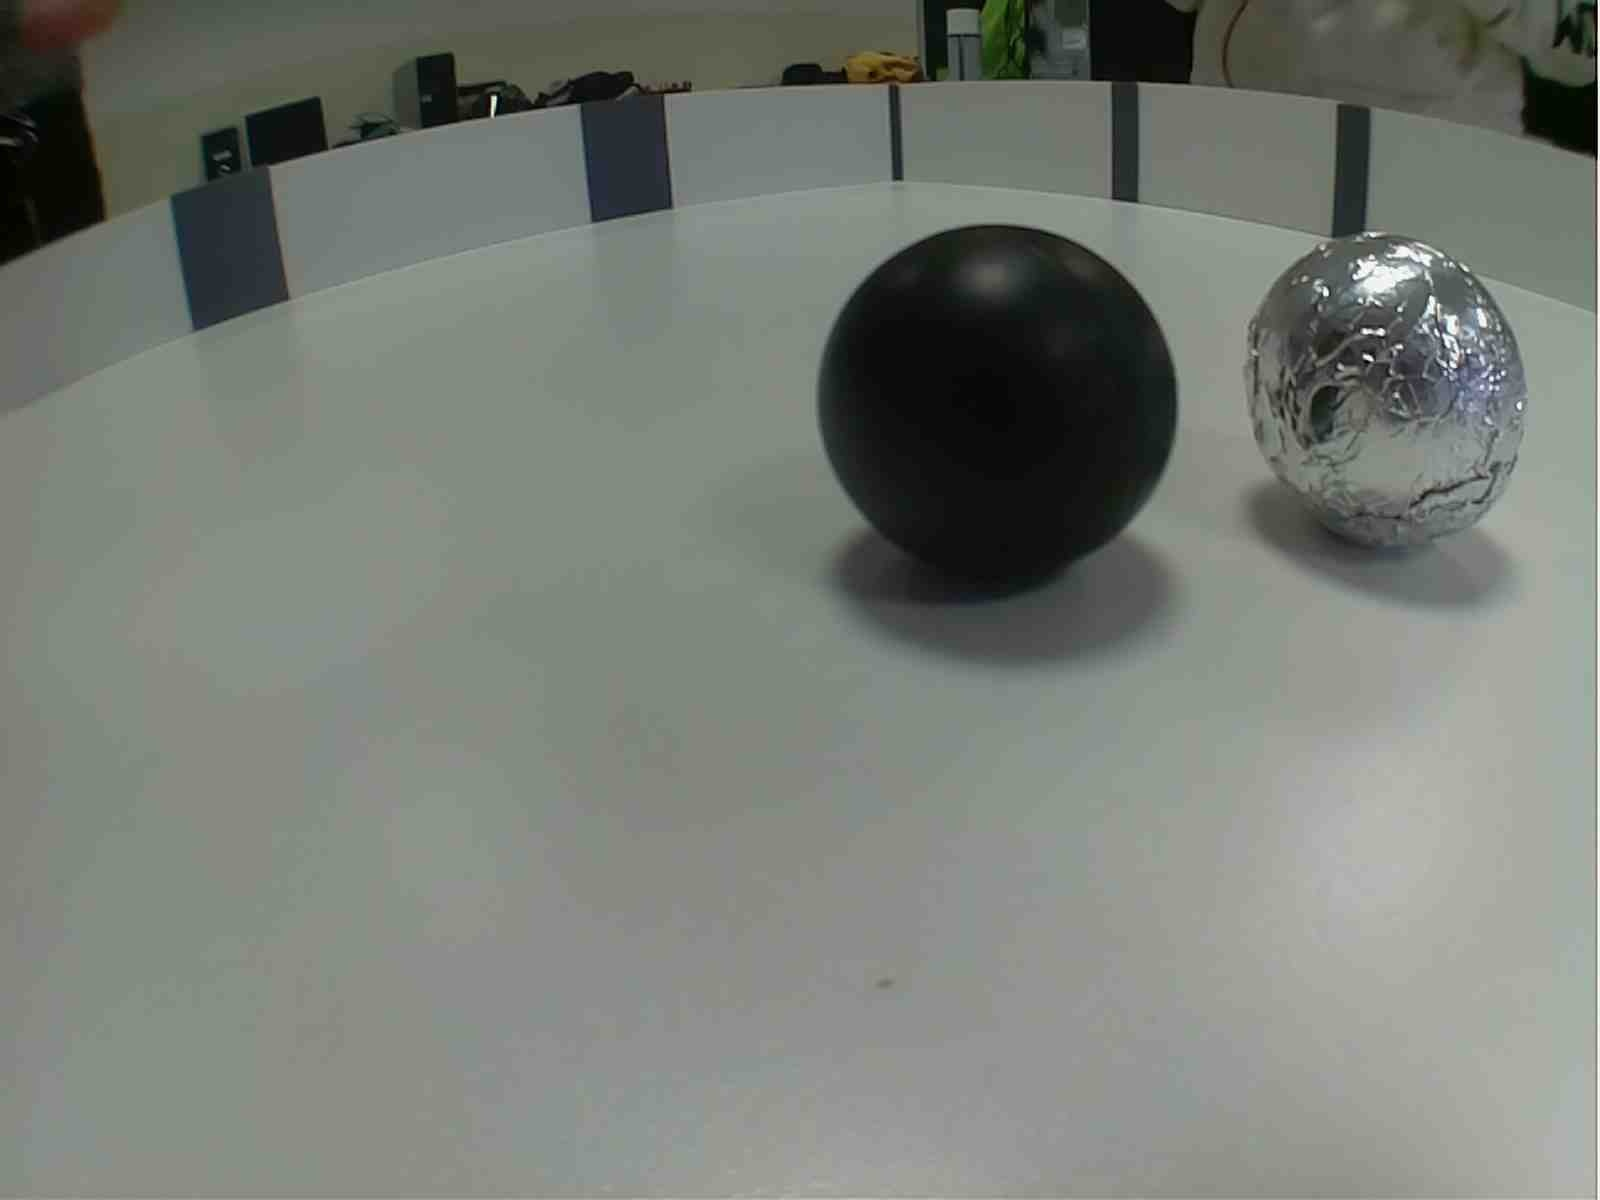bianca: (1238, 227, 1538, 558)
nera: (813, 219, 1186, 597)
